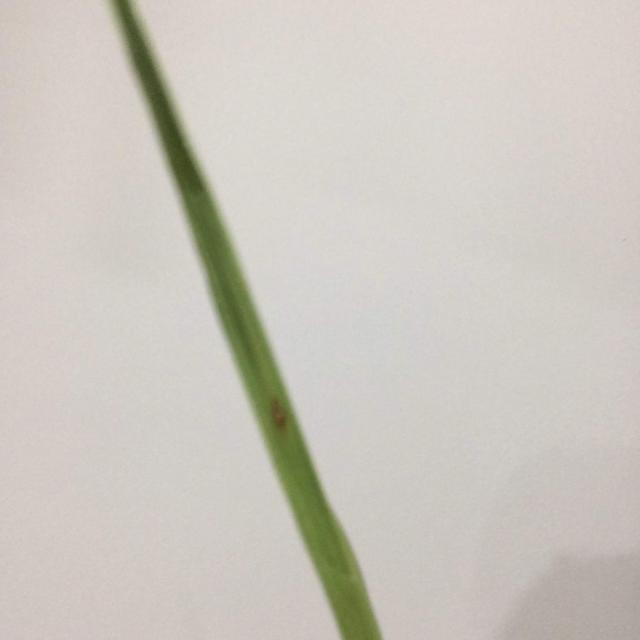Blast: (261, 393, 293, 433)
